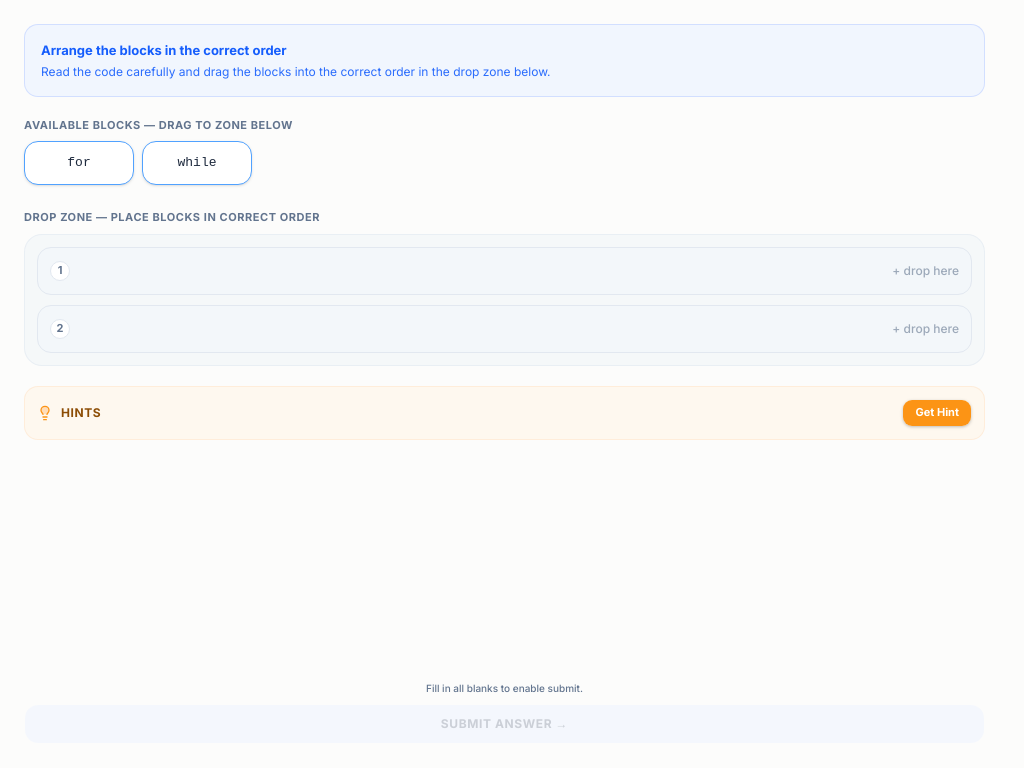
Test case: PracticePanel › fills drag-drop slots and submits the prepared answer
The width and height of the screenshot is (1024, 768).
Click the text "for". click: [79, 163]
box: [67, 153, 91, 173]
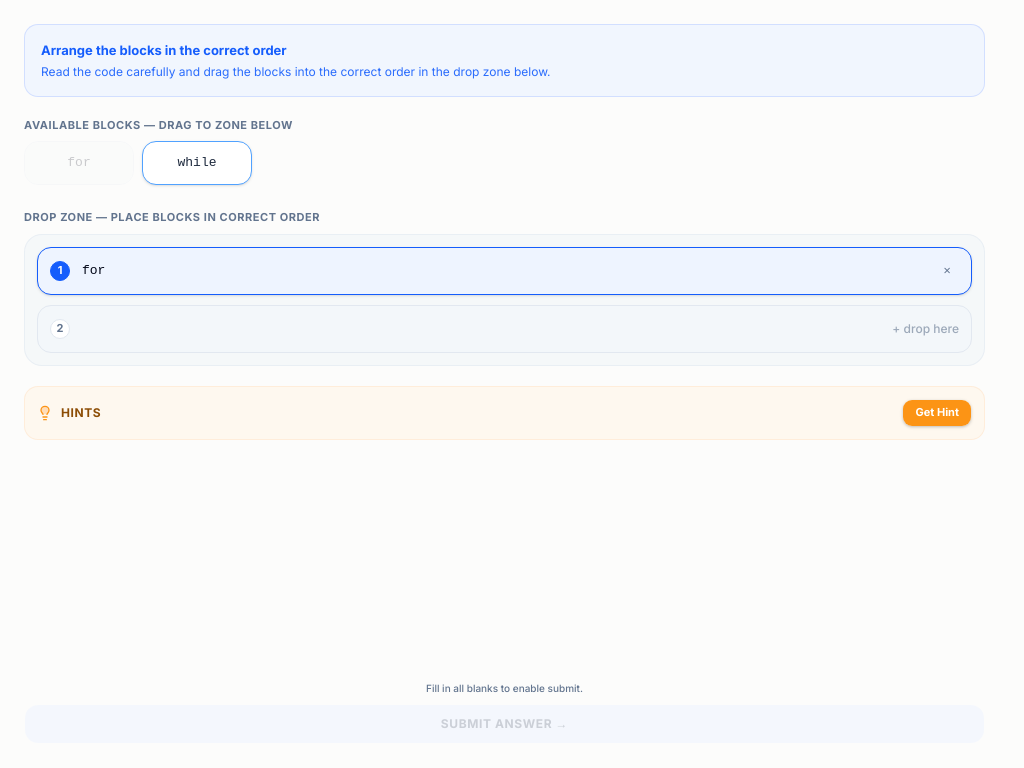
Click the text "while". click: [197, 163]
box: [178, 153, 216, 173]
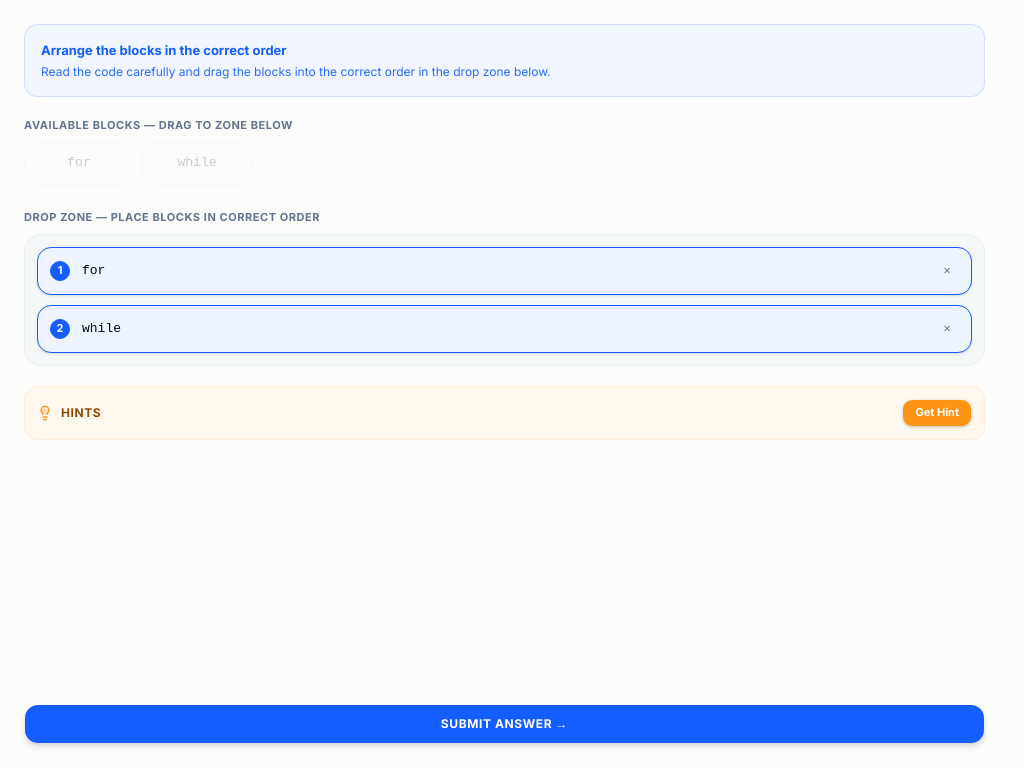
Click the button "Submit Answer →". click: [504, 724]
box: [24, 704, 985, 744]
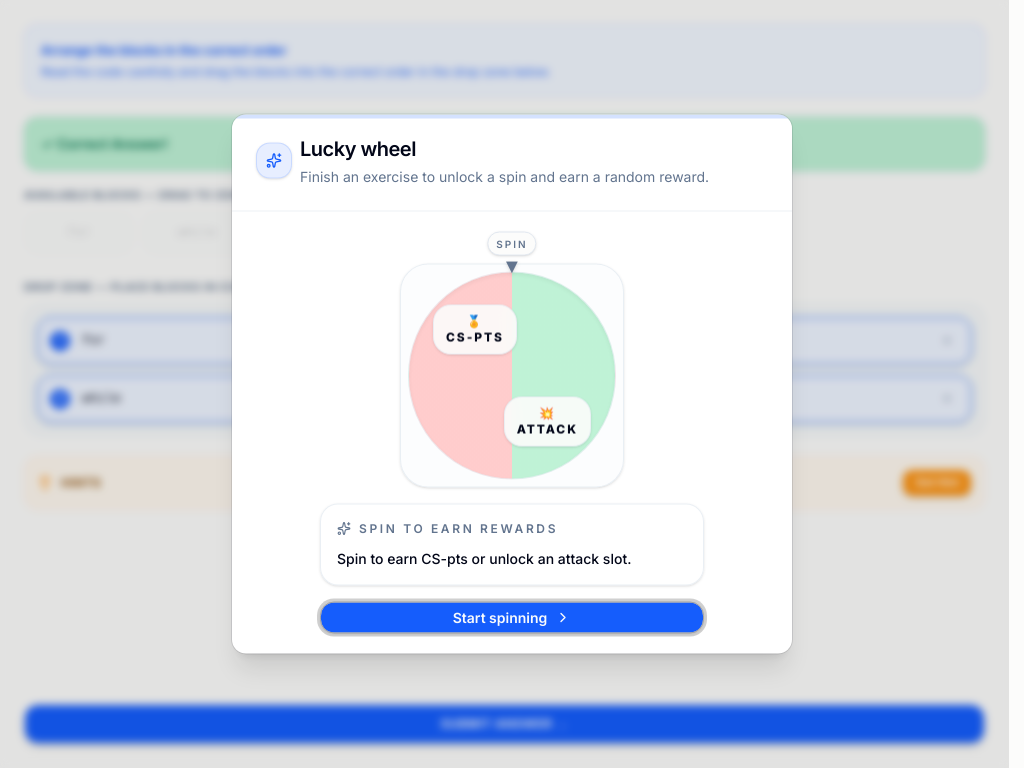
Result: the text "✓ Correct Answer!" is shown at [41, 134, 168, 154]
